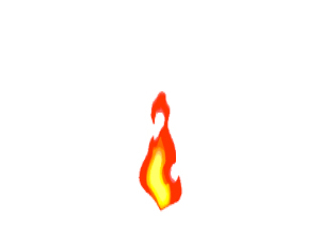fire: (136, 91, 197, 207)
